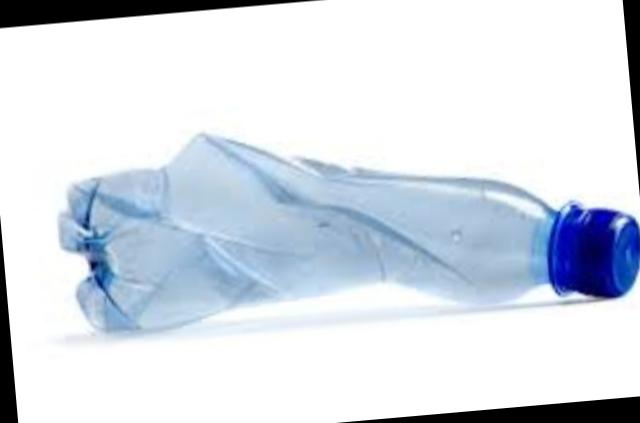plastic: (63, 130, 640, 327)
